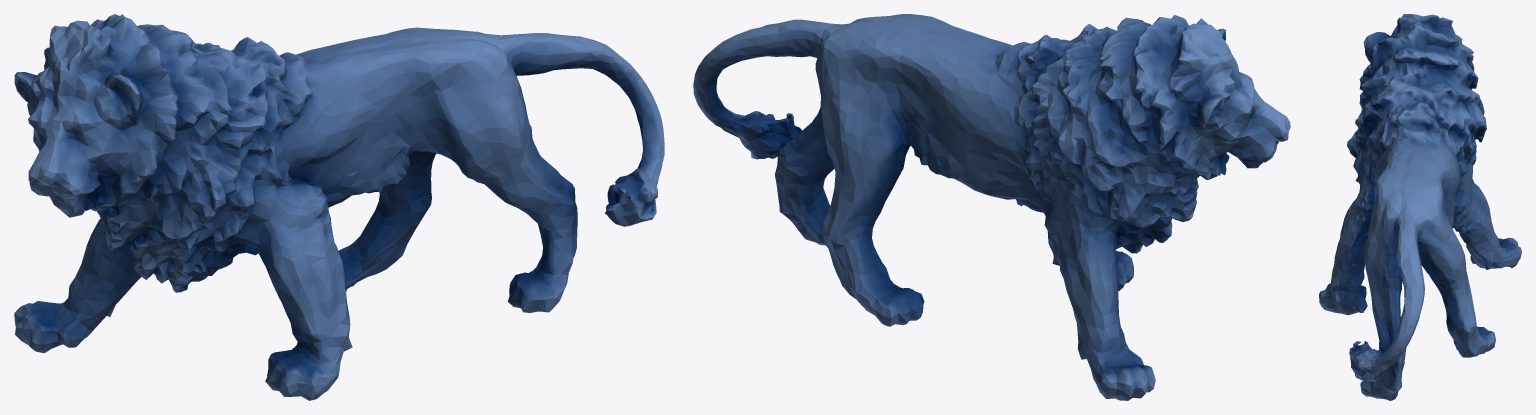
Rendered from lion12KC.obj.
3 renders of one model, left to right at view 1: azimuth 30°, elevation 25°; view 2: azimuth 150°, elevation 25°; view 3: azimuth 270°, elevation 25°, orthographic. The views are drawn at different scales.
Size of the model in its own units: 0.2359 by 0.1284 by 0.0958.
